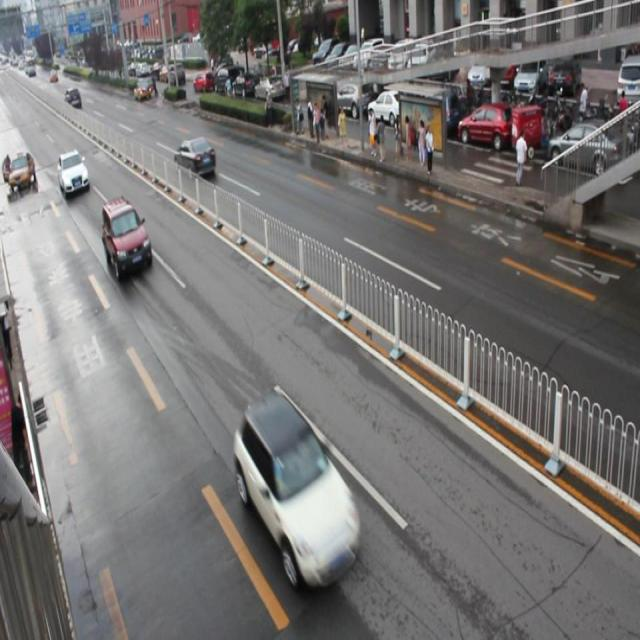car: (234, 396, 361, 588), (102, 196, 152, 280), (173, 137, 215, 178), (58, 147, 88, 197)
